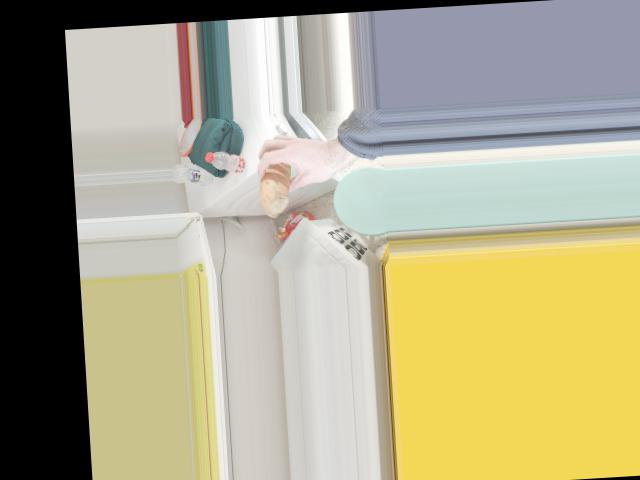sweet_potato: (263, 148, 308, 201)
